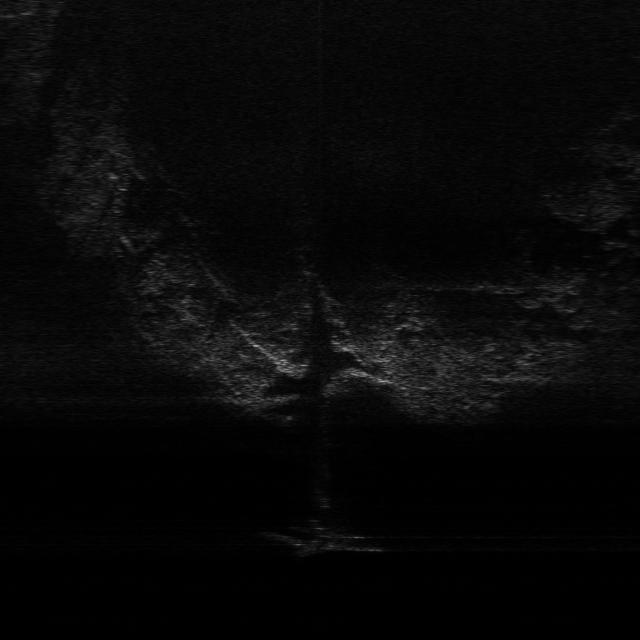plane: (258, 519, 389, 558)
